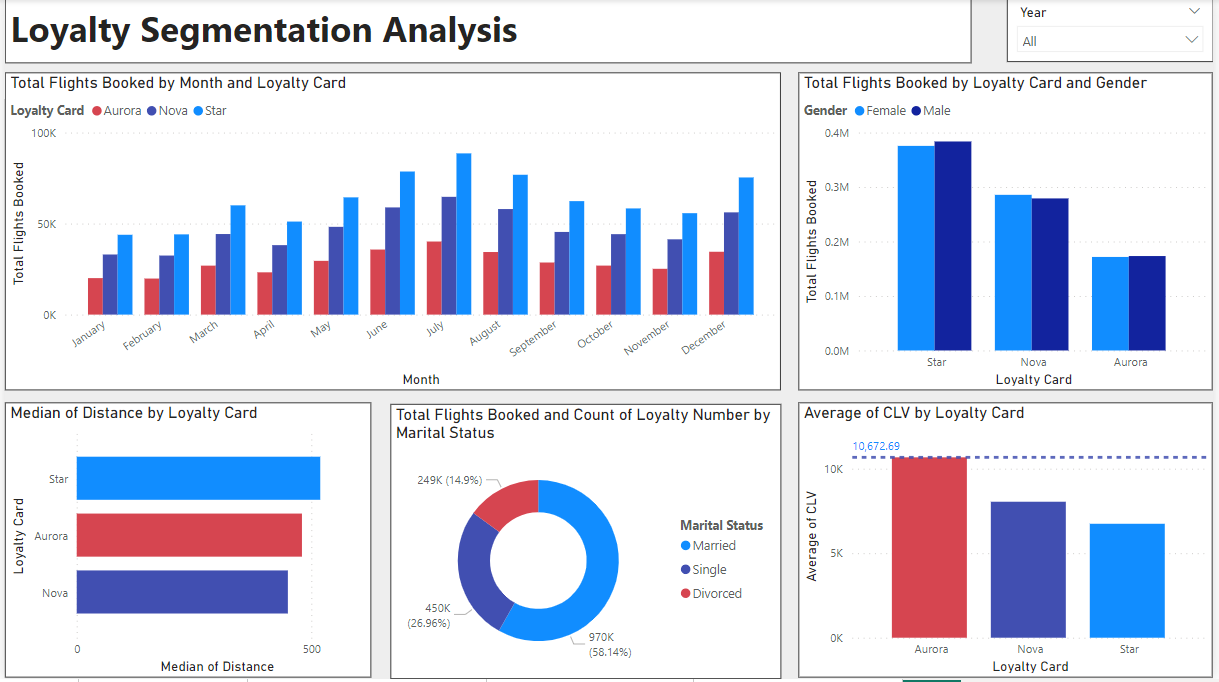

Layout of this report page (visuals, bound fields, positions):
{"tool":"powerbi","page":{"name":"Loyalty Segmentation","canvas":[1280,720],"ordinal":2},"visuals":[{"type":"clusteredColumnChart","fields":{"Category":["Customer Loyalty History.Loyalty Card"],"Series":["Customer Loyalty History.Gender"],"Y":["Customer Flight Activity.Total Flights Booked"]},"box":[841.3,77.7,438.5,336.5],"z":0},{"type":"clusteredBarChart","fields":{"Category":["Customer Loyalty History.Loyalty Card"],"Y":["Median(Customer Flight Activity.Distance)"]},"box":[0,427.1,388.3,291.2],"z":1000},{"type":"clusteredColumnChart","fields":{"Category":["Customer Loyalty History.Loyalty Card"],"Y":["Avg(Customer Loyalty History.CLV)"]},"box":[841.3,427.1,438.5,291.2],"z":2000},{"type":"clusteredColumnChart","fields":{"Category":["Customer Flight Activity.NewDate.Variation.Date Hierarchy.Month"],"Series":["Customer Loyalty History.Loyalty Card"],"Y":["Customer Flight Activity.Total Flights Booked"]},"box":[0,77.7,821.9,336.5],"z":3000},{"type":"donutChart","fields":{"Y":["Customer Flight Activity.Total Flights Booked"],"Category":["Customer Loyalty History.Marital Status"]},"box":[407.7,428.8,414.2,291.2],"z":4000},{"type":"slicer","fields":{"Values":["Customer Flight Activity.NewDate.Variation.Date Hierarchy.Year"]},"box":[1061.4,0,218.4,66.3],"z":5000},{"type":"textbox","box":[0,0,1024.2,68],"z":6000}]}

Visuals, with their boxes in screenshot pixels (x1, y1, x2, y2), scaled from the page's 1280x720 canvas onto the 1219x682 screenshot:
clusteredColumnChart - Customer Loyalty History.Loyalty Card x Customer Loyalty History.Gender: BBox(801, 74, 1218, 392)
clusteredBarChart - Customer Loyalty History.Loyalty Card x Median(Customer Flight Activity.Distance): BBox(0, 405, 370, 680)
clusteredColumnChart - Customer Loyalty History.Loyalty Card x Avg(Customer Loyalty History.CLV): BBox(801, 405, 1218, 680)
clusteredColumnChart - Customer Flight Activity.NewDate.Variation.Date Hierarchy.Month x Customer Loyalty History.Loyalty Card: BBox(0, 74, 783, 392)
donutChart - Customer Flight Activity.Total Flights Booked x Customer Loyalty History.Marital Status: BBox(388, 406, 783, 681)
slicer - Customer Flight Activity.NewDate.Variation.Date Hierarchy.Year: BBox(1011, 0, 1218, 63)
textbox: BBox(0, 0, 975, 64)
